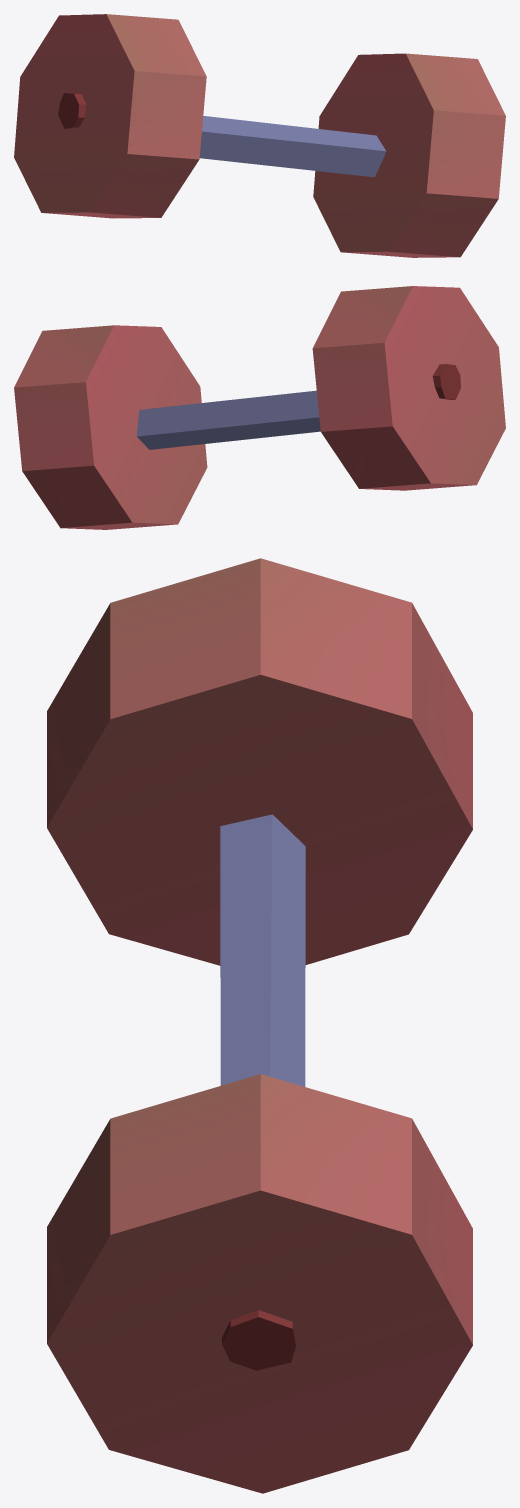
File: Gym_Dumbells_Dum3.fbx
3 renders of one model, top to bottom at view 1: azimuth 30°, elevation 25°; view 2: azimuth 150°, elevation 25°; view 3: azimuth 270°, elevation 25°, orthographic. The views are drawn at different scales.
Parts seen in each view (by area): view 1: Gym_Dumbells_Dum3; view 2: Gym_Dumbells_Dum3; view 3: Gym_Dumbells_Dum3.
Boxes of the visible parts, x1,y1,x2,y2 form: Gym_Dumbells_Dum3: (14, 14, 505, 257); Gym_Dumbells_Dum3: (14, 286, 505, 529); Gym_Dumbells_Dum3: (47, 558, 472, 1493).
Bounding box in the file's own units: 42.54 × 29.75 × 18.06.
